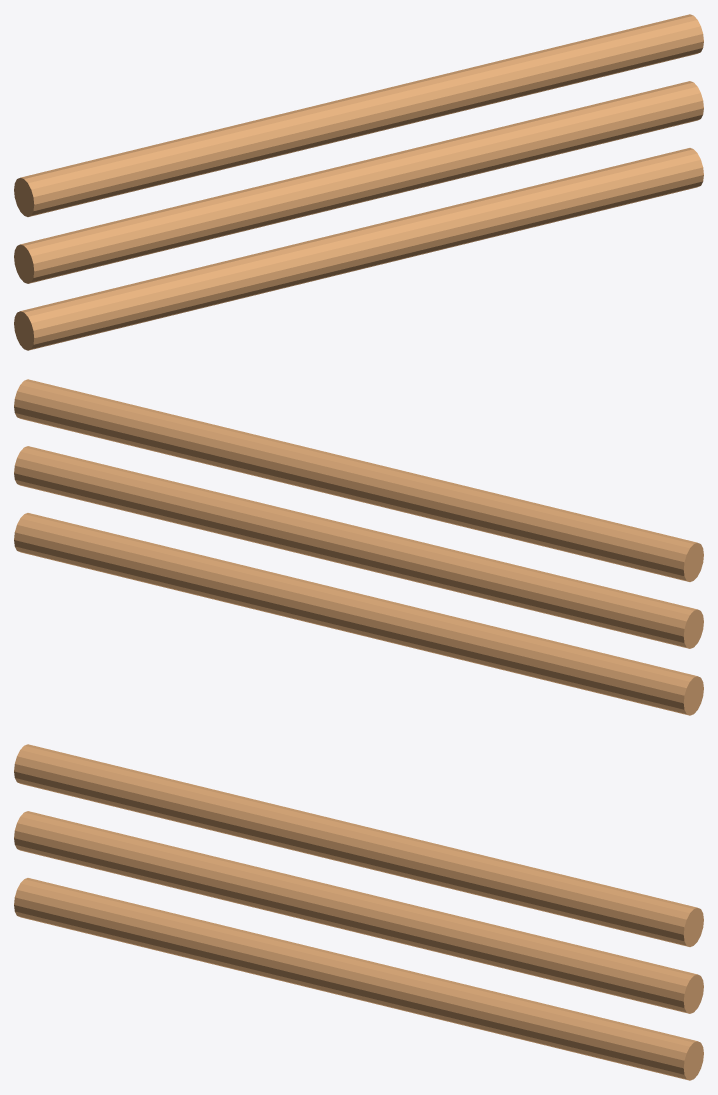
Rendered from 134_L110_CPU_HeatpipeAssembly.glb.
The picture shows the model from 3 angles, top to bottom: view 1: azimuth 30°, elevation 25°; view 2: azimuth 150°, elevation 25°; view 3: azimuth 330°, elevation 25°; orthographic projection.
Visible parts, largest first — view 1: L110_CPU_HeatpipeAssembly_COPPER; view 2: L110_CPU_HeatpipeAssembly_COPPER; view 3: L110_CPU_HeatpipeAssembly_COPPER.
Boxes of the visible parts, <box> form: L110_CPU_HeatpipeAssembly_COPPER: <box>14,14,703,350</box>; L110_CPU_HeatpipeAssembly_COPPER: <box>14,379,703,715</box>; L110_CPU_HeatpipeAssembly_COPPER: <box>14,744,703,1080</box>.
Bounding box in the file's own units: 63 × 15.3 × 3.3.
